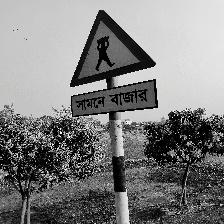Market-in-front: (69, 9, 159, 118)
